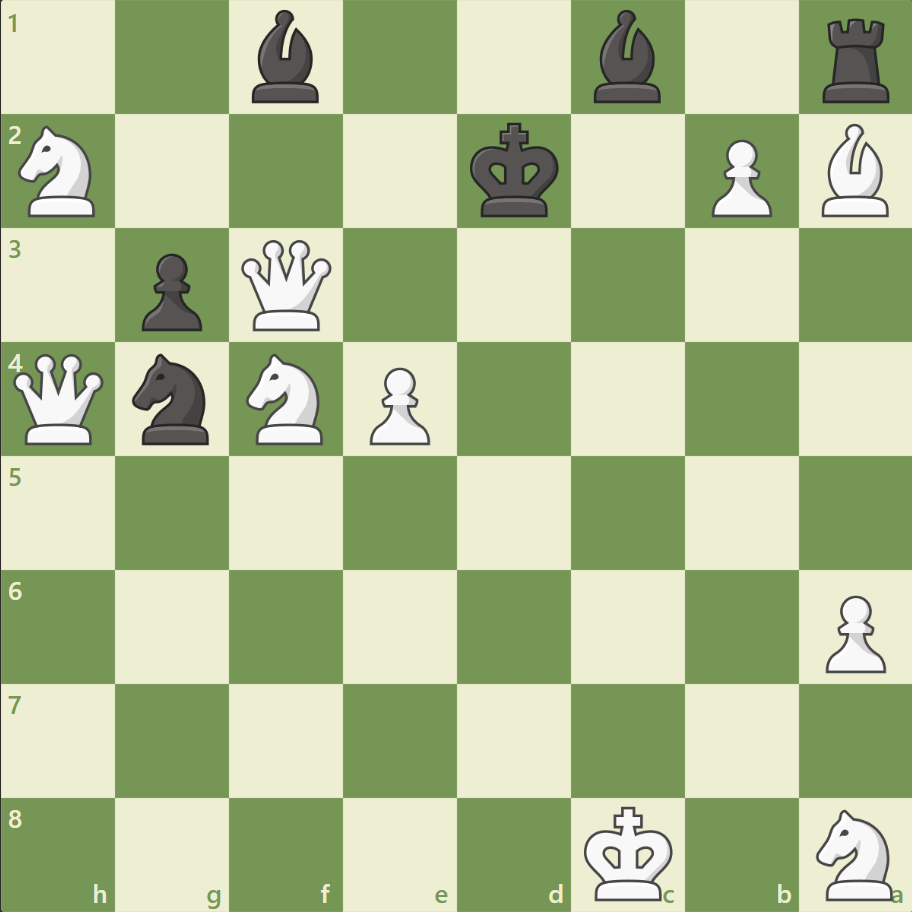B: (812, 120, 896, 222)
K: (579, 798, 679, 906)
N: (806, 802, 903, 904), (238, 348, 335, 450), (11, 121, 108, 223)
P: (701, 132, 776, 223), (815, 586, 889, 677), (361, 359, 435, 450)
Q: (10, 349, 109, 449), (237, 236, 336, 335)
b: (585, 6, 669, 109), (244, 6, 328, 109)
k: (465, 117, 565, 225)
n: (124, 348, 222, 450)
p: (133, 246, 208, 337)
r: (814, 12, 897, 109)
